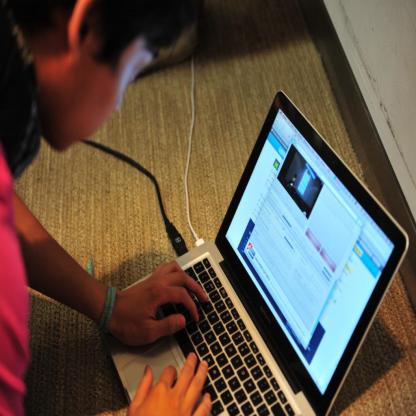board: (109, 91, 410, 416)
